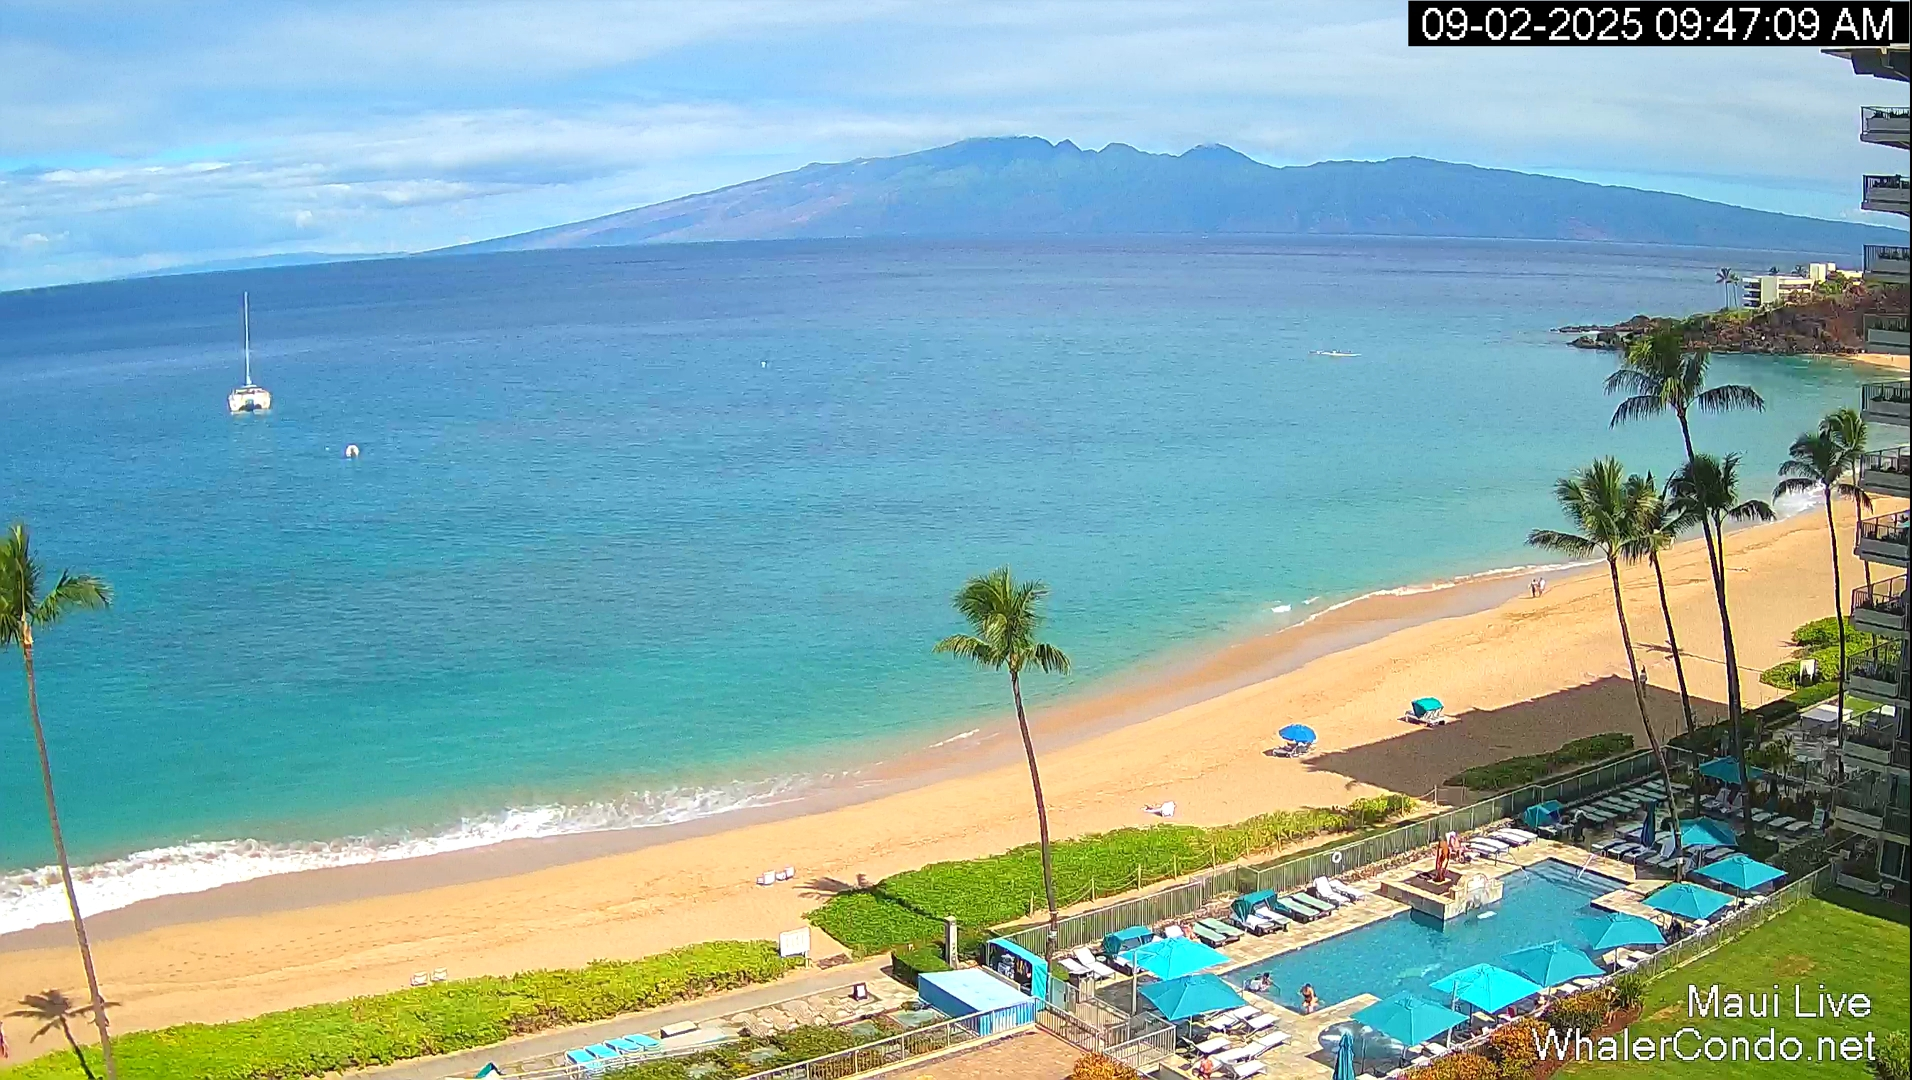boat: (476, 1032, 640, 1080), (227, 290, 272, 412), (563, 1032, 639, 1080), (1308, 349, 1362, 357)
person: (1300, 983, 1318, 1015), (1538, 577, 1546, 597), (1530, 579, 1537, 598)
